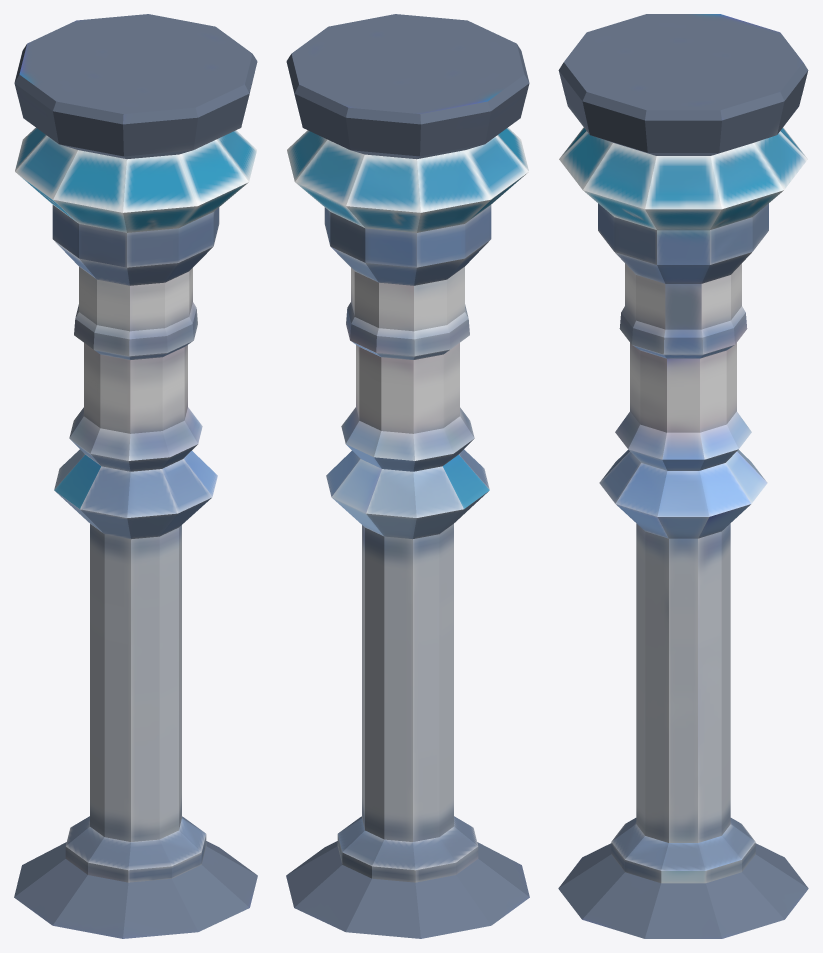
File: columna.obj
3 renders of one model, left to right at view 1: azimuth 30°, elevation 25°; view 2: azimuth 150°, elevation 25°; view 3: azimuth 270°, elevation 25°, orthographic.
Parts seen in each view (by area): view 1: columna_Cylinder; view 2: columna_Cylinder; view 3: columna_Cylinder.
Part boxes in pixels (x1,y1,x2,y2): columna_Cylinder: [14, 14, 257, 938]; columna_Cylinder: [286, 14, 529, 938]; columna_Cylinder: [558, 14, 808, 938].
Bounding box in the file's own units: 48.85 × 187 × 51.36.
